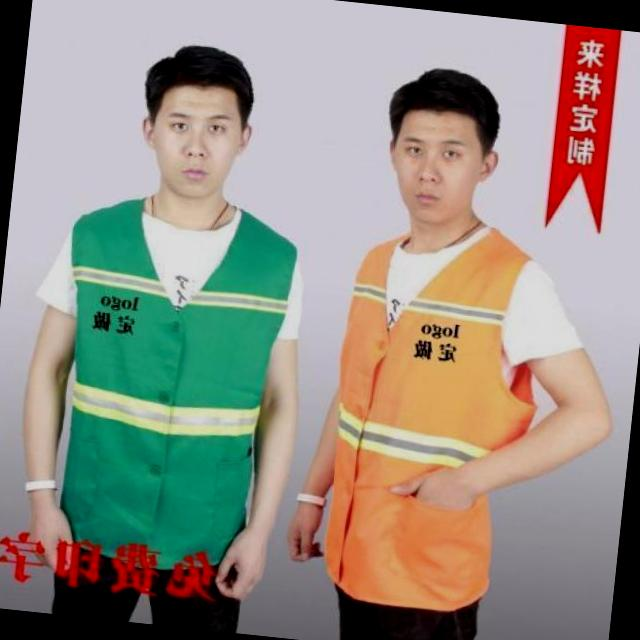vest: (42, 192, 284, 561), (328, 219, 534, 610)
